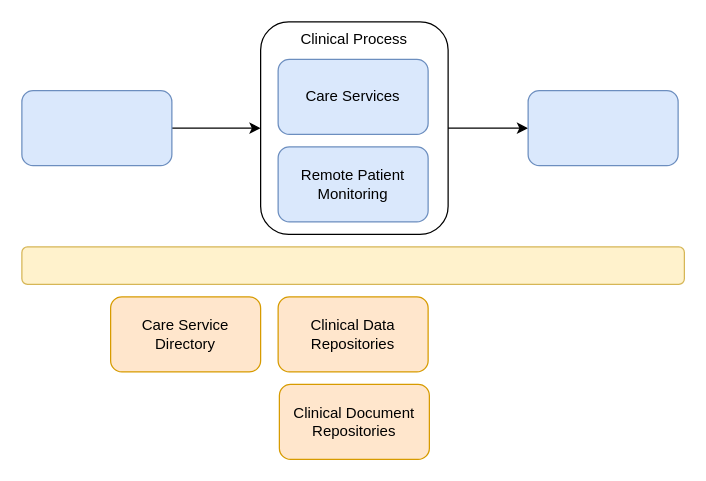
Image size: 706x481. Some labels were removed from this diagram. Each missing label, with the centre of its shape:
"eReferral" belongs at (96,127).
"eReport (Discharge)" belongs at (602,127).
"Health Information Exchange" belongs at (352,265).
